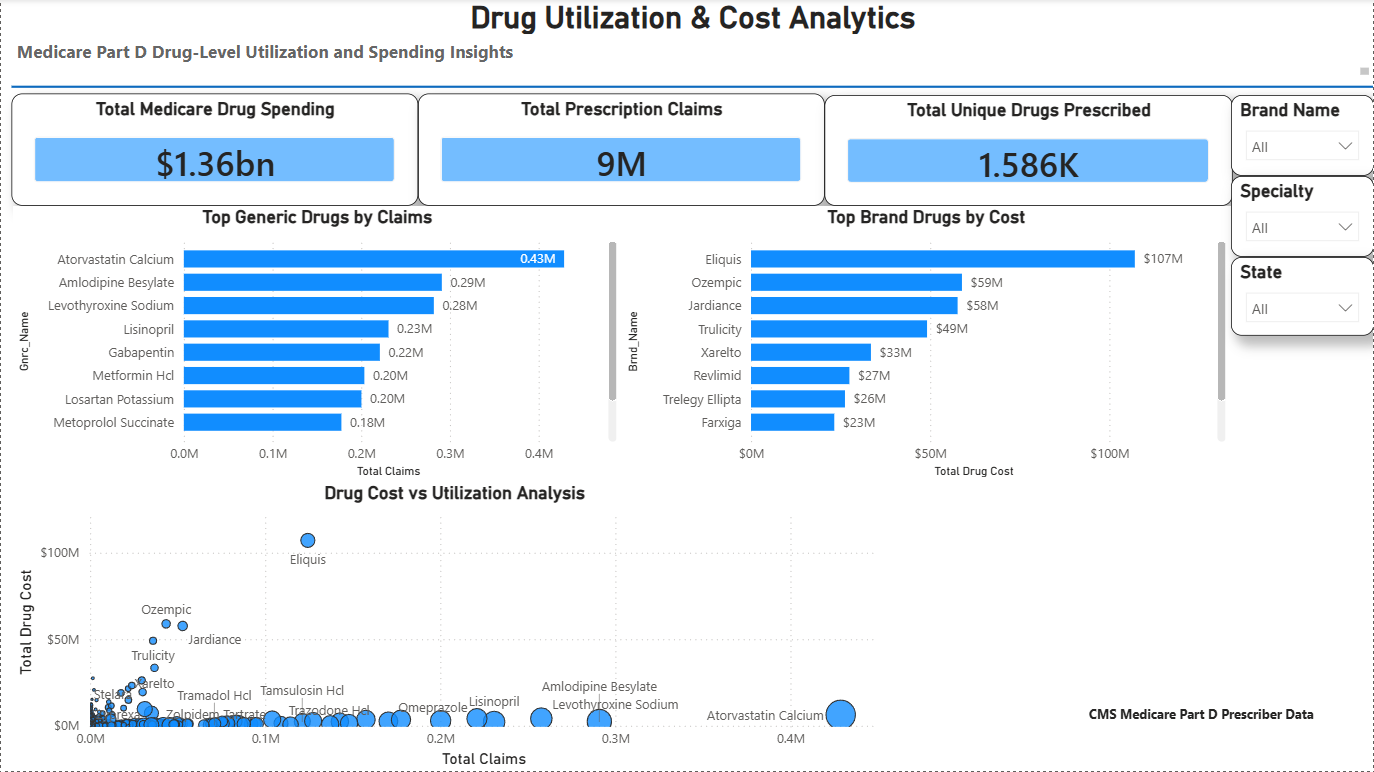

This screenshot's page, from the dashboard's own definition file:
{"tool":"powerbi","page":{"name":"Page 2","canvas":[1280,720],"ordinal":1},"visuals":[{"type":"textbox","title":"Drug Utilization & Cost Analysis","box":[10.1,0,1269.9,72.9],"z":0},{"type":"shape","box":[0,64.8,1269.9,14.2],"z":1000},{"type":"cardVisual","title":"Total Medicare Drug Spending","fields":{"Data":["clean_medicare_partd.Total Drug Cost"]},"box":[9.5,78.8,315,116.6],"z":2000},{"type":"cardVisual","title":"Total Prescription Claims","fields":{"Data":["clean_medicare_partd.Total Claims"]},"box":[349.7,78.8,310.3,116.6],"z":3000},{"type":"cardVisual","title":"Total Unique Drugs Prescribed","fields":{"Data":["clean_medicare_partd.Total Unique Brand Drugs"]},"box":[685.5,78.3,337.2,117.5],"z":4000},{"type":"clusteredBarChart","title":"Top Generic Drugs by Claims","fields":{"Category":["clean_medicare_partd.Gnrc_Name"],"Y":["clean_medicare_partd.Total Claims"]},"box":[10.1,208.6,506.3,263.3],"z":5000},{"type":"clusteredBarChart","title":"Top Brand Drugs by Cost","fields":{"Category":["clean_medicare_partd.Brnd_Name"],"Y":["clean_medicare_partd.Total Drug Cost"]},"box":[506.3,208.6,532.7,263.3],"z":6000},{"type":"scatterChart","title":"Drug Cost vs Utilization Analysis","fields":{"Category":["clean_medicare_partd.Brnd_Name"],"X":["clean_medicare_partd.Total Claims"],"Y":["clean_medicare_partd.Total Drug Cost"],"Size":["clean_medicare_partd.Total Claims"]},"box":[10.1,471.9,1028.9,247.1],"z":7000},{"type":"slicer","title":"Brand Name","fields":{"Values":["clean_medicare_partd.Brnd_Name"]},"box":[1039,79,230.9,77],"z":8000},{"type":"slicer","title":"Specialty","fields":{"Values":["clean_medicare_partd.Prscrbr_Type"]},"box":[1039,158,230.9,79],"z":9000},{"type":"slicer","title":"State","fields":{"Values":["clean_medicare_partd.Prscrbr_State_Abrvtn"]},"box":[1039,237,230.9,72.9],"z":10000},{"type":"textbox","title":"CMS Medicare Part D Prescriber Data","box":[1037,623.8,230.9,42.5],"z":11000}]}

Visuals, with their boxes in screenshot pixels (x1, y1, x2, y2), scaled from the page's 1280x720 canvas onto the 1374x772 screenshot:
"Drug Utilization & Cost Analysis" textbox: [left=11, top=0, right=1373, bottom=78]
shape: [left=0, top=69, right=1363, bottom=85]
"Total Medicare Drug Spending" cardVisual: [left=10, top=84, right=348, bottom=210]
"Total Prescription Claims" cardVisual: [left=375, top=84, right=708, bottom=210]
"Total Unique Drugs Prescribed" cardVisual: [left=736, top=84, right=1098, bottom=210]
"Top Generic Drugs by Claims" clusteredBarChart: [left=11, top=224, right=554, bottom=506]
"Top Brand Drugs by Cost" clusteredBarChart: [left=543, top=224, right=1115, bottom=506]
"Drug Cost vs Utilization Analysis" scatterChart: [left=11, top=506, right=1115, bottom=771]
"Brand Name" slicer: [left=1115, top=85, right=1363, bottom=167]
"Specialty" slicer: [left=1115, top=169, right=1363, bottom=254]
"State" slicer: [left=1115, top=254, right=1363, bottom=332]
"CMS Medicare Part D Prescriber Data" textbox: [left=1113, top=669, right=1361, bottom=714]
